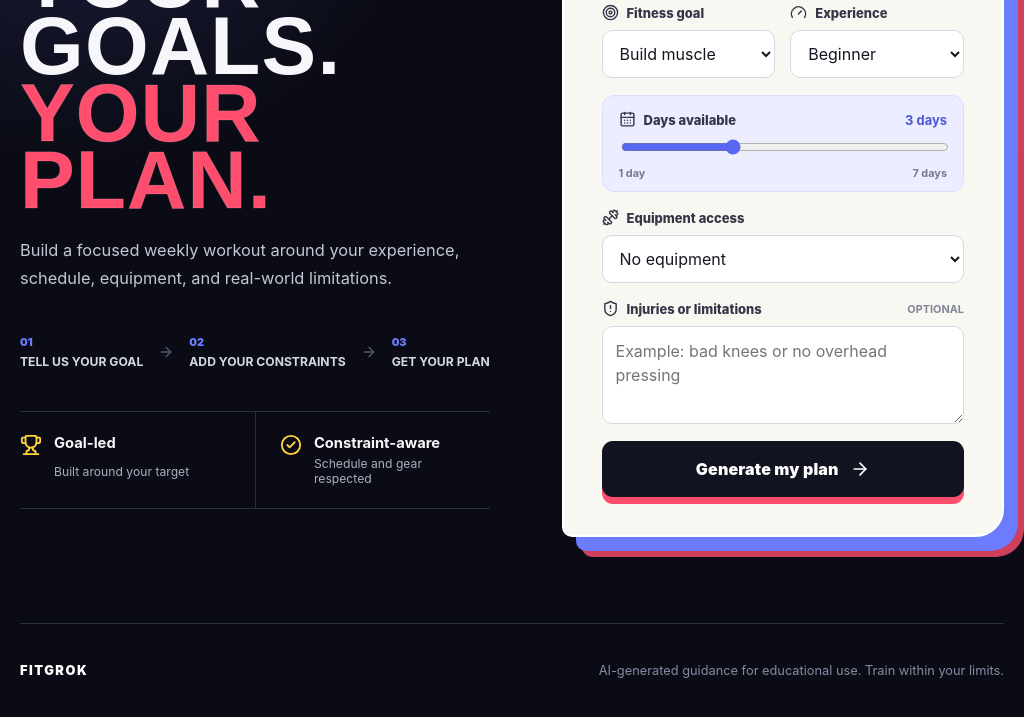
submits null when limitations are blank and renders the plan
(page scrolled)
What coordinates should you click on to do the following:
click the button "Generate my plan"
I would click on:
 (783, 469)
Its box is [602,441,964,497].
(page scrolled)
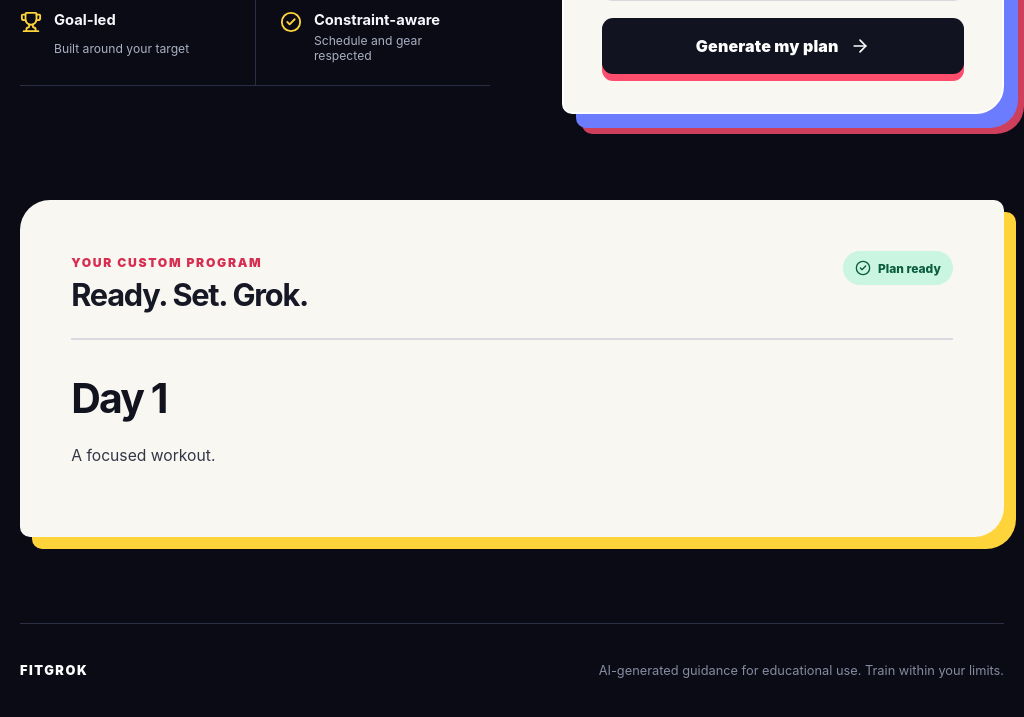
Expected: the heading "Day 1" is shown, [71,373,167,423]
